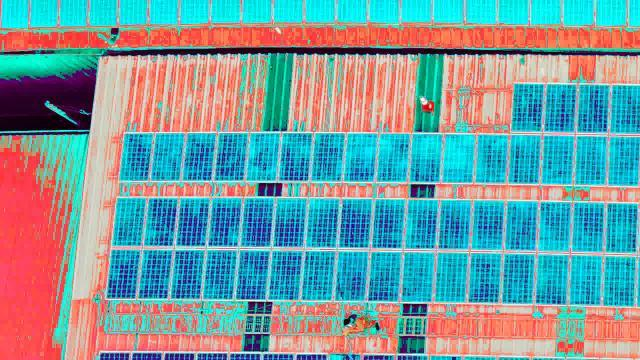semi: (568, 79, 604, 130), (602, 135, 638, 186), (602, 76, 638, 127), (538, 82, 574, 133), (511, 85, 547, 136), (604, 200, 640, 251), (604, 257, 640, 308), (567, 254, 603, 305), (535, 252, 571, 303), (499, 252, 535, 303), (468, 251, 504, 302), (430, 252, 466, 303), (400, 247, 436, 298), (365, 248, 401, 299), (334, 247, 370, 298), (120, 129, 155, 180), (153, 129, 188, 180), (181, 132, 216, 183), (215, 131, 250, 182), (248, 130, 283, 181), (287, 131, 322, 182), (315, 131, 350, 182), (345, 129, 380, 180), (375, 129, 410, 180), (411, 130, 446, 181), (445, 131, 480, 182), (476, 132, 511, 183), (509, 133, 544, 184), (546, 134, 581, 185), (571, 134, 606, 185), (113, 195, 148, 246), (141, 199, 176, 250), (172, 198, 207, 249), (204, 196, 239, 247), (235, 194, 270, 245), (272, 197, 307, 248), (306, 198, 341, 249), (333, 196, 368, 247), (372, 195, 407, 246), (404, 198, 439, 249), (439, 199, 474, 250), (471, 199, 506, 250), (506, 200, 541, 251), (537, 200, 572, 251), (570, 202, 605, 253), (302, 248, 337, 299), (269, 249, 304, 300), (234, 246, 269, 297), (196, 248, 231, 299), (163, 250, 198, 301), (137, 246, 172, 297), (109, 246, 144, 297)
